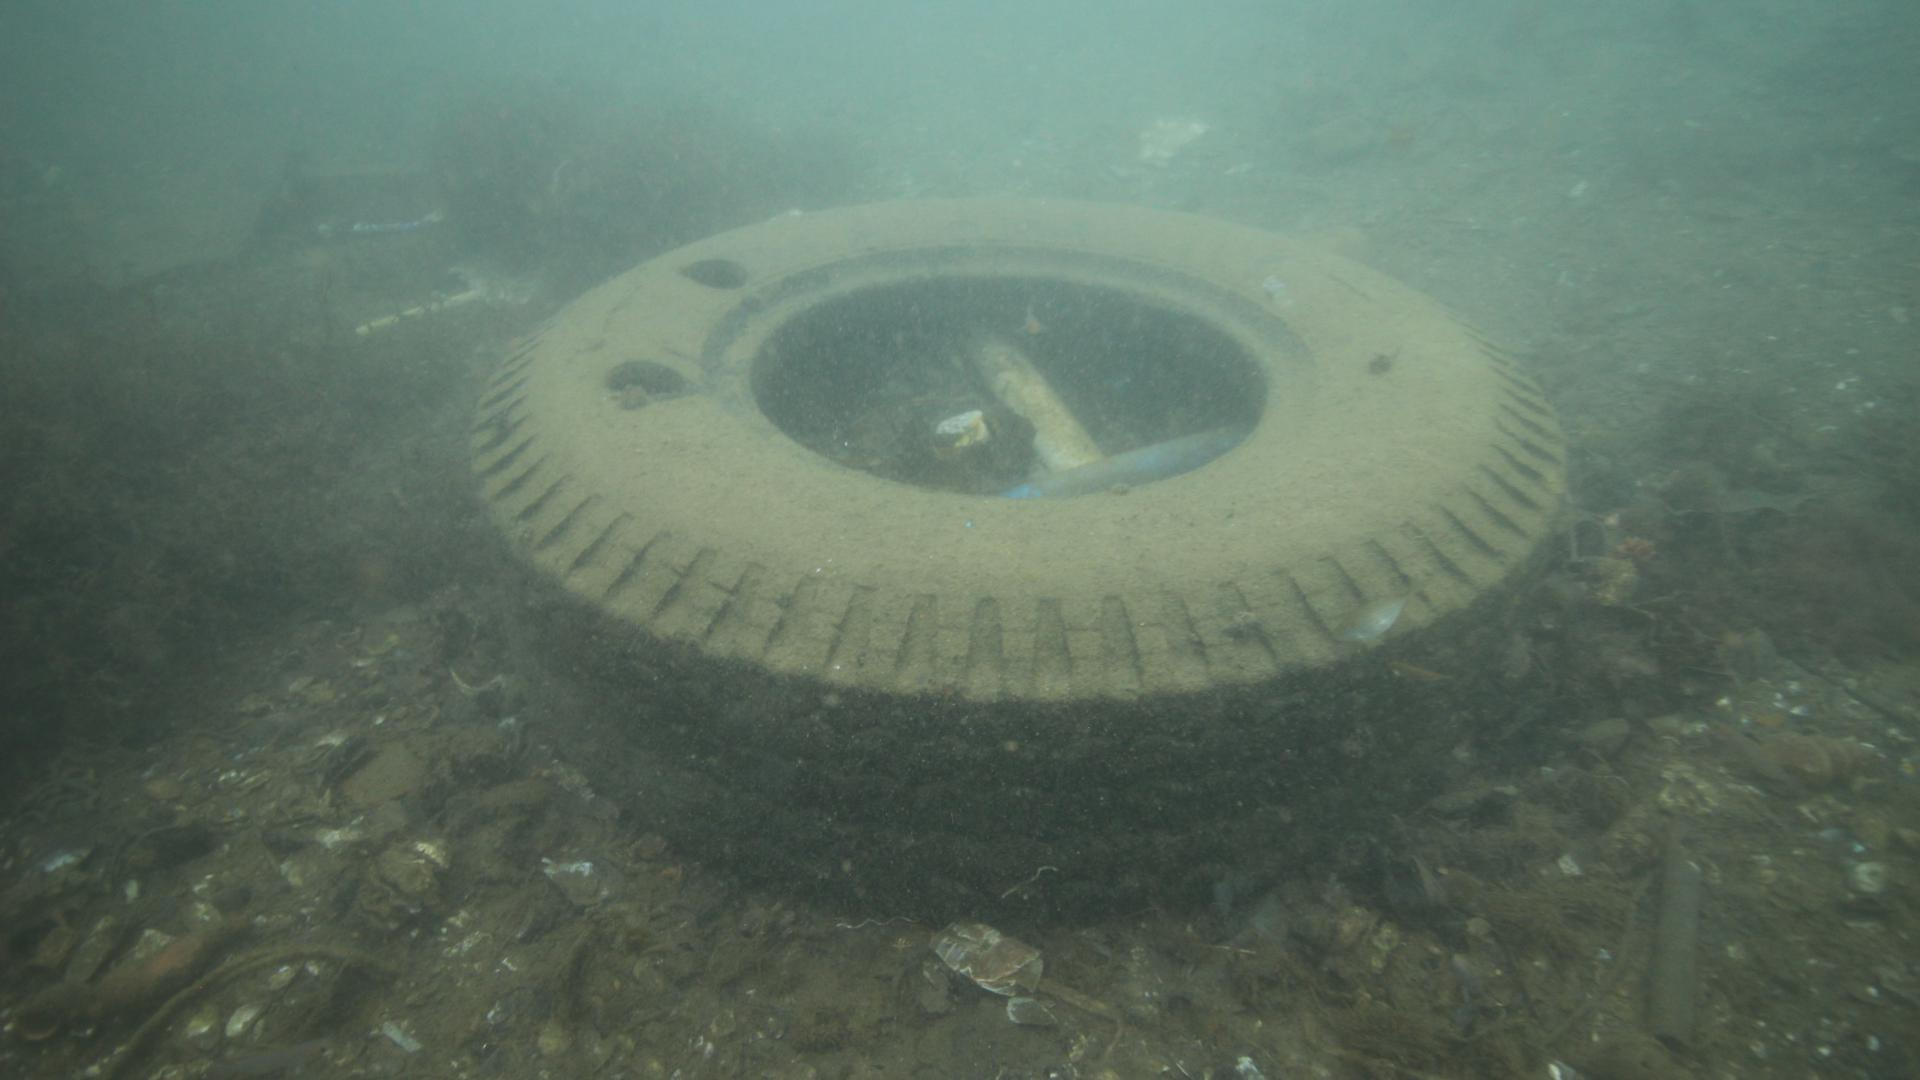tire: (463, 194, 1569, 927)
